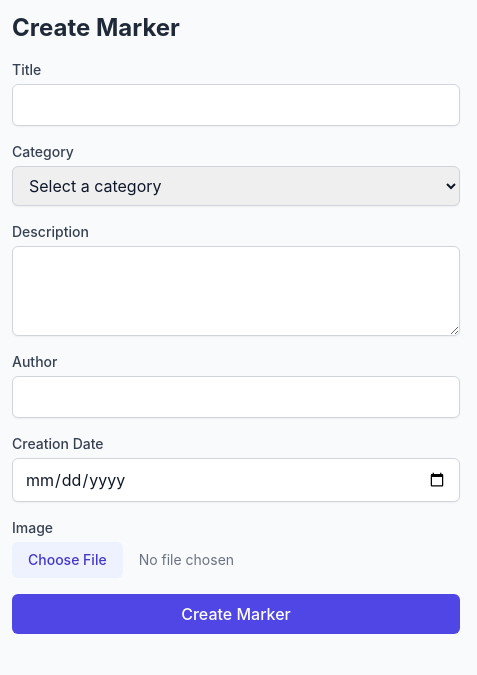
Scenario: MarkerForm › shows validation error when category is not selected on submit
The width and height of the screenshot is (477, 675).
Type "Test" into the field labelled "Title". click: (236, 105)
box: 12,84 -> 460,126
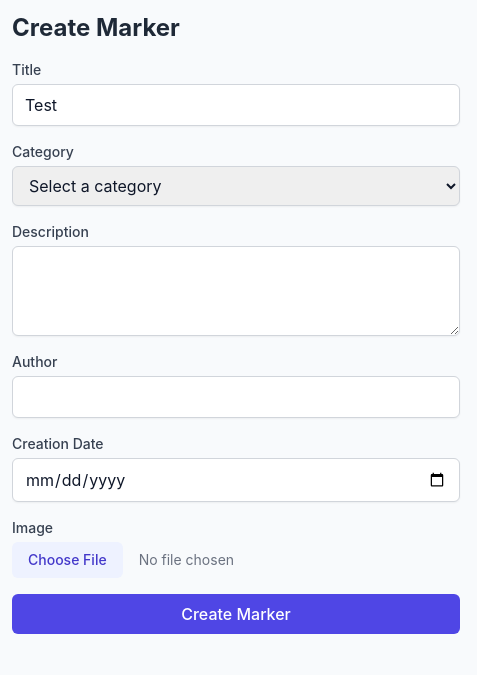
Click the button "Create Marker". click: (236, 614)
box: 12,594 -> 460,634
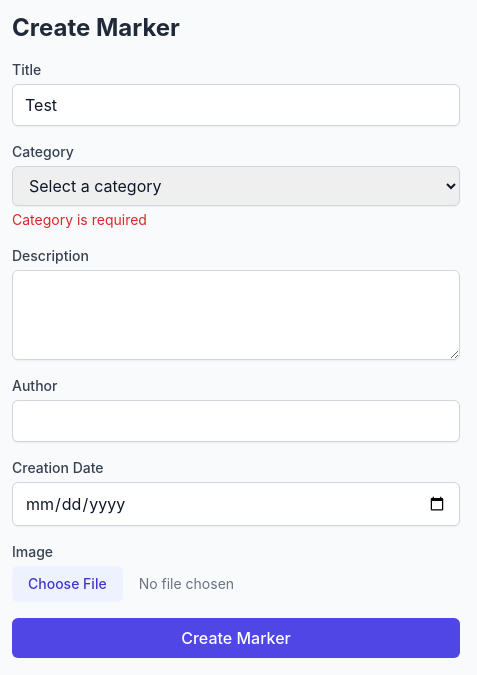
Now the text "Category is required" is shown, box 12,211 -> 147,228
